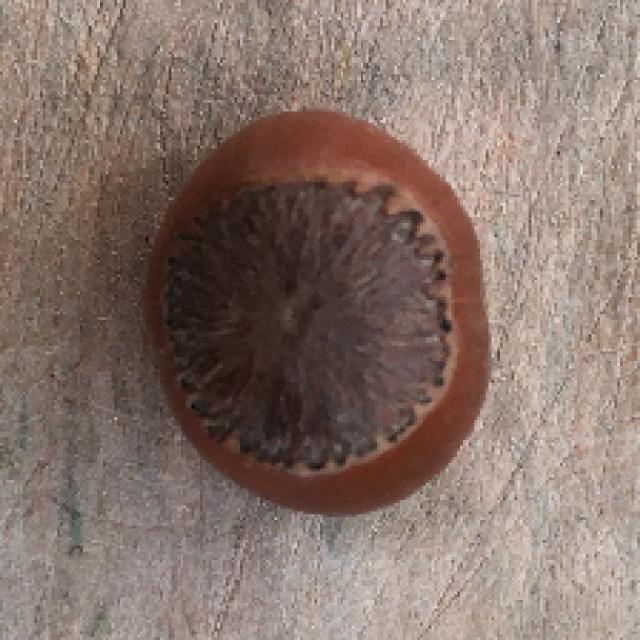damagedHazelnut: (142, 98, 492, 527)
